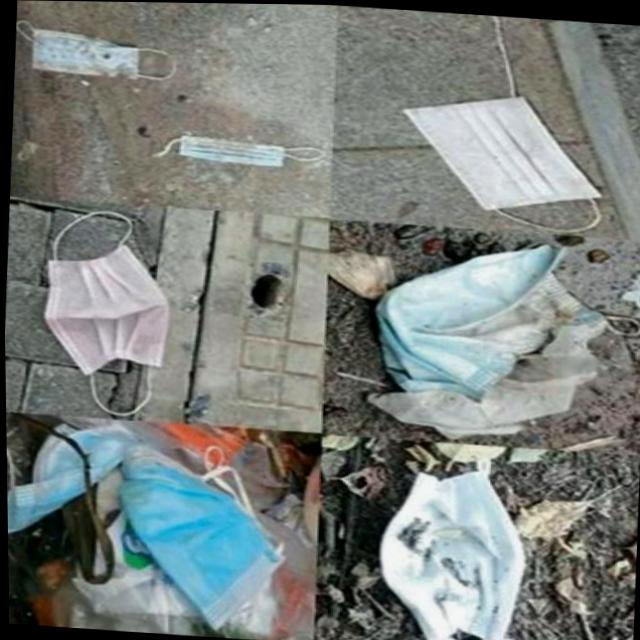Mask: (365, 229, 640, 408), (107, 437, 293, 637), (392, 85, 613, 233), (366, 449, 534, 640), (33, 206, 175, 419), (5, 416, 146, 545), (13, 19, 177, 83), (145, 132, 327, 170)
Paper: (360, 309, 618, 449)
